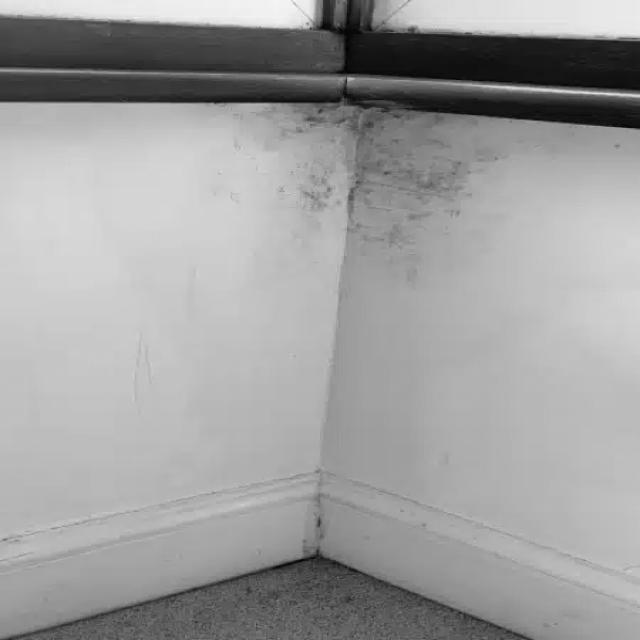stain marks: (198, 104, 514, 288)
